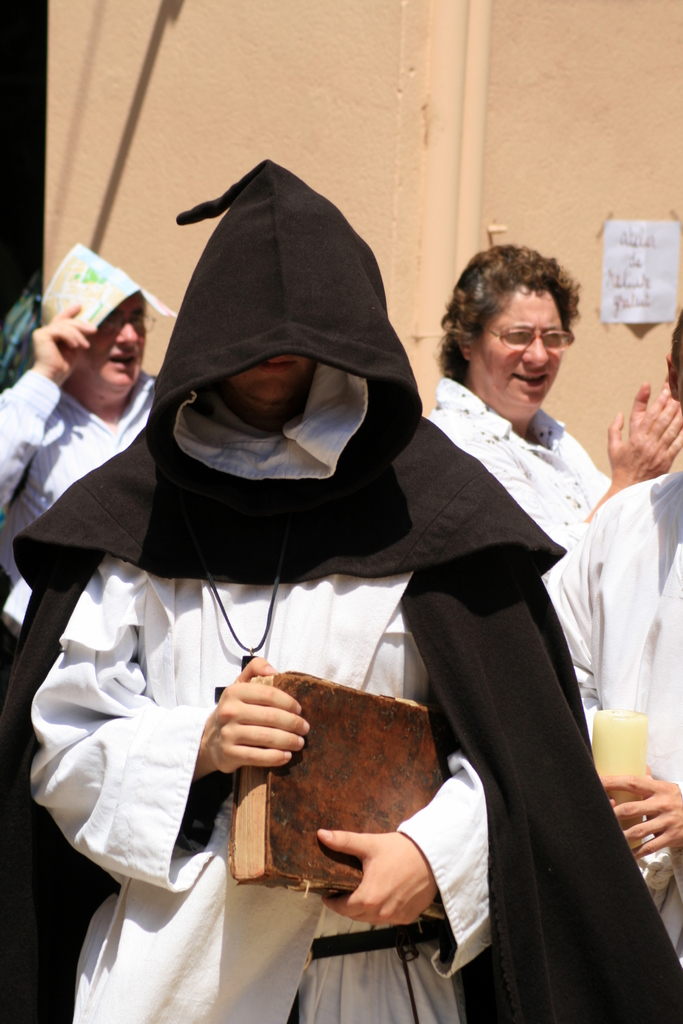Human_hand: (192, 659, 311, 785), (319, 827, 438, 929), (608, 388, 682, 493), (598, 774, 682, 858), (31, 304, 99, 383), (631, 378, 667, 439)
